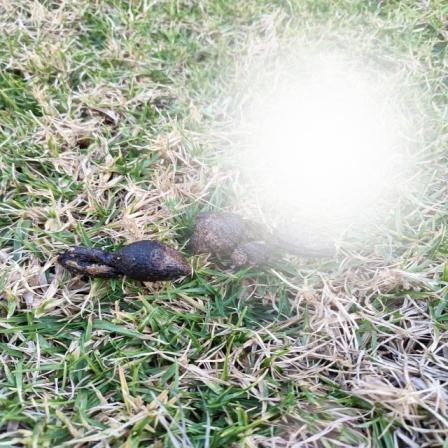dog-poop: (80, 210, 331, 284)
